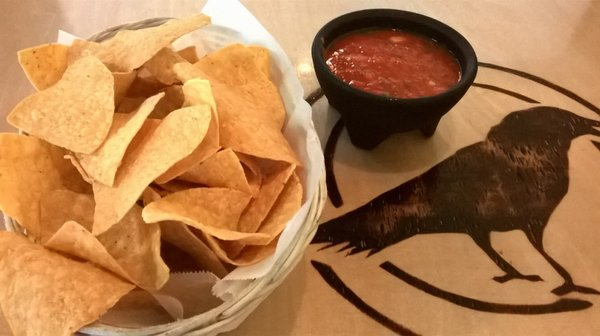sushi: (310, 9, 478, 151)
